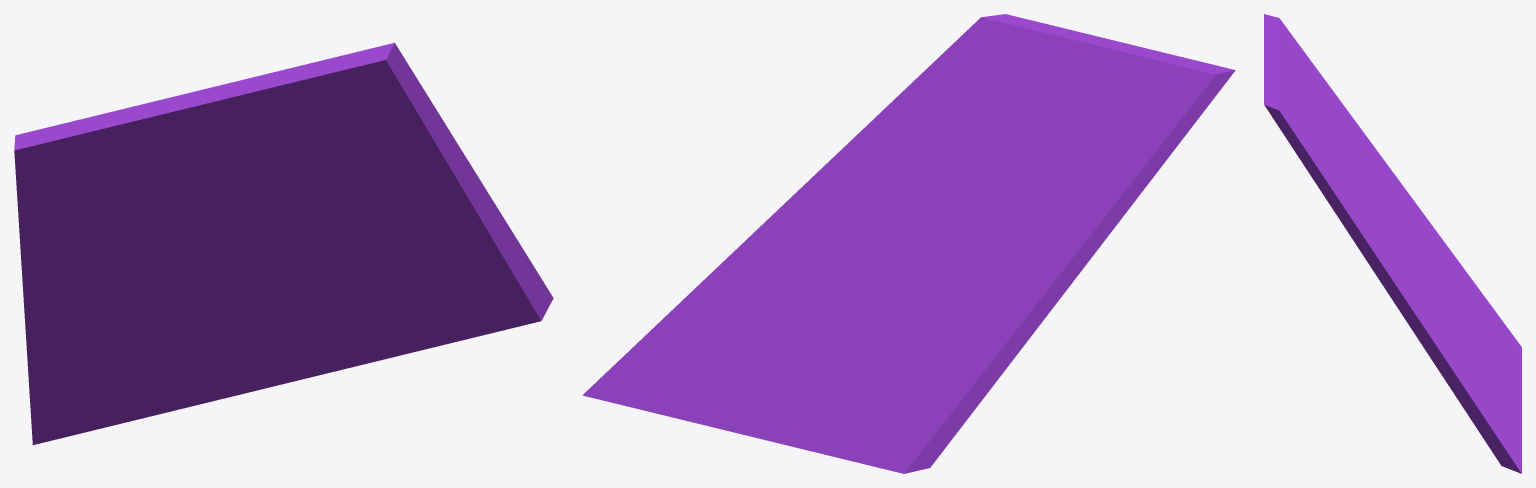
Rendered from Window_111.fbx.
3 renders of one model, left to right at view 1: azimuth 30°, elevation 25°; view 2: azimuth 150°, elevation 25°; view 3: azimuth 270°, elevation 25°, orthographic. The views are drawn at different scales.
Parts seen in each view (by area): view 1: Window_111; view 2: Window_111; view 3: Window_111.
Part boxes in pixels (x1,y1,x2,y2): Window_111: [14, 42, 553, 444]; Window_111: [582, 14, 1235, 473]; Window_111: [1264, 14, 1521, 473].
Bounding box in the file's own units: 1487 × 947 × 833.
